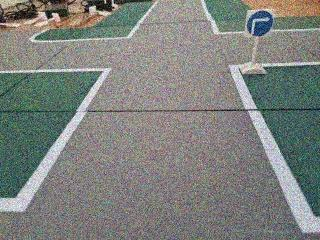right: (244, 6, 275, 39)
